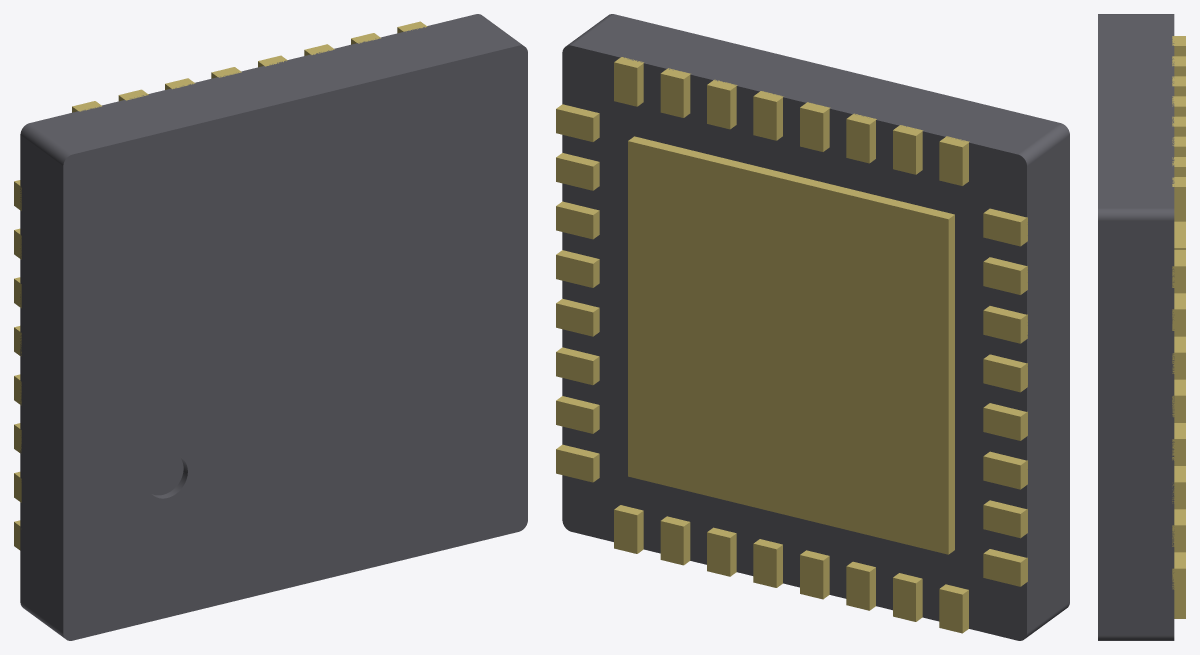
The picture shows the model from 3 angles, left to right: view 1: azimuth 30°, elevation 25°; view 2: azimuth 150°, elevation 25°; view 3: azimuth 270°, elevation 25°; orthographic projection. The views are drawn at different scales.
Visible parts, largest first — view 1: extra, pins; view 2: pins, extra; view 3: extra, pins.
Part boxes in pixels (x1,y1,x2,y2): extra: [20, 14, 527, 640]; pins: [14, 21, 427, 550]; pins: [556, 57, 1027, 633]; extra: [562, 14, 1069, 640]; extra: [1098, 14, 1174, 640]; pins: [1172, 36, 1185, 618].
Bounding box in the file's own units: 5 × 5 × 0.92.
